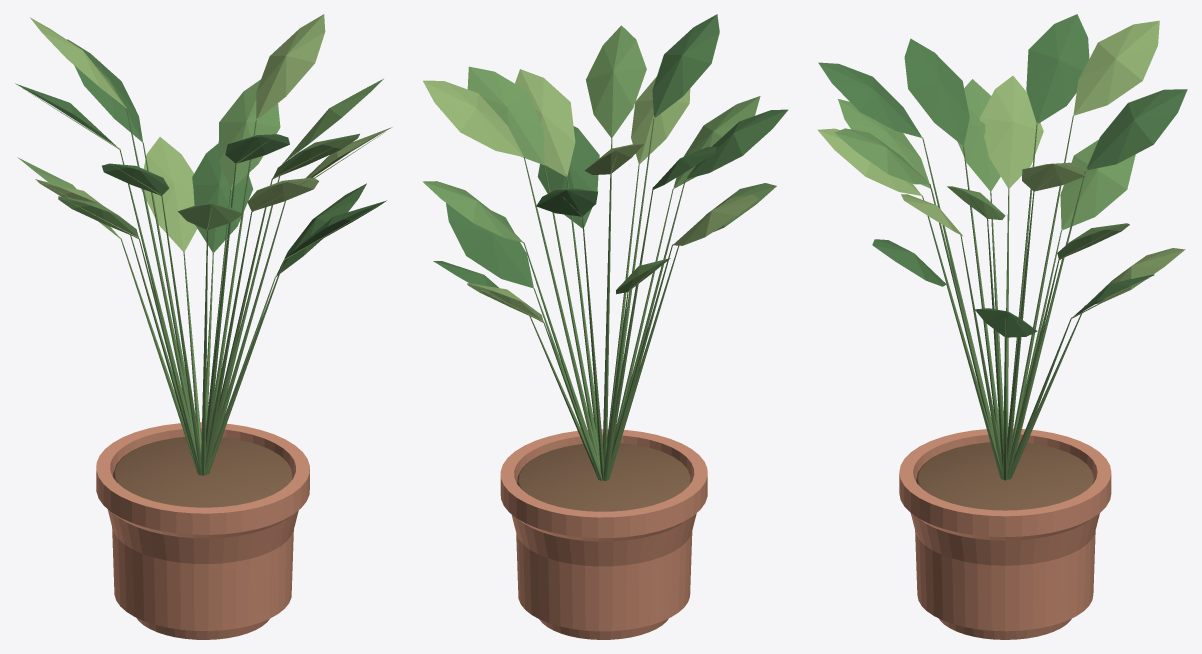
File: small-plant.glb
3 views of the same model, side by side, from view 1: azimuth 30°, elevation 25°; view 2: azimuth 150°, elevation 25°; view 3: azimuth 270°, elevation 25° (orthographic). The views are drawn at different scales.
Parts seen in each view (by area): view 1: small-plant; view 2: small-plant; view 3: small-plant.
Boxes of the visible parts, <box> form: small-plant: <box>15,14,392,639</box>; small-plant: <box>422,14,788,639</box>; small-plant: <box>817,14,1187,639</box>.
Bounding box in the file's own units: 0.32 × 0.52 × 0.32.
